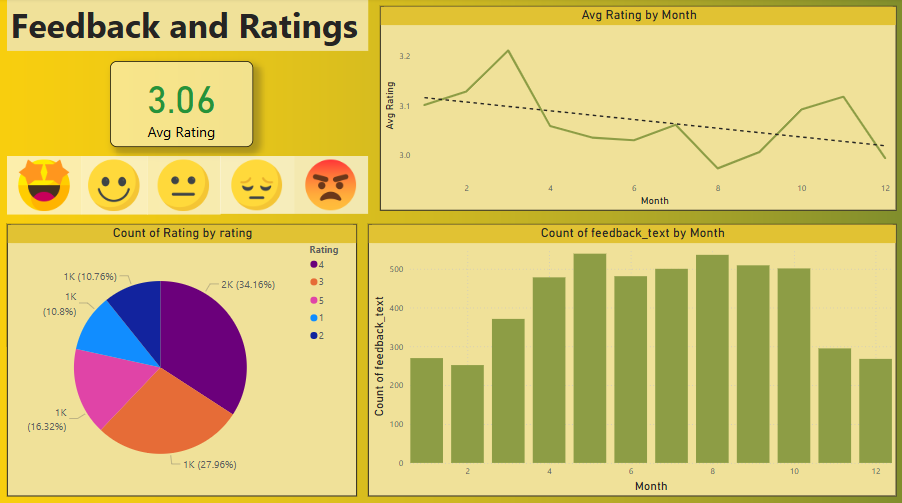

Layout of this report page (visuals, bound fields, positions):
{"tool":"powerbi","page":{"name":"Feedback & Rating","canvas":[1280,720],"ordinal":3},"visuals":[{"type":"pieChart","fields":{"Category":["customer_feedback.rating"],"Y":["Measure Table.Count of Rating"]},"box":[9.7,320.8,495.8,385.6],"z":0},{"type":"lineChart","fields":{"Y":["Measure Table.Avg Rating"],"Category":["customer_feedback.Month"]},"box":[537.9,11.3,732.4,290],"z":1000},{"type":"columnChart","fields":{"Category":["customer_feedback.Month"],"Y":["Measure Table.Count of feedback_text"]},"box":[521.7,320.8,748.6,385.6],"z":2000},{"type":"card","fields":{"Values":["Measure Table.Avg Rating"]},"box":[155.5,89.1,202.5,121.5],"z":3000},{"type":"textbox","box":[9.7,0,512,74.5],"z":4000},{"type":"image","box":[9.7,223.6,105.3,82.6],"z":5000},{"type":"image","box":[311.8,223.9,104.9,82.2],"z":6000},{"type":"image","box":[209,223.6,103.7,82.6],"z":7000},{"type":"image","box":[115,223.6,94,82.6],"z":8000},{"type":"image","box":[416.7,223.9,104.9,82.2],"z":9000}]}

Visuals, with their boxes in screenshot pixels (x1, y1, x2, y2), scaled from the page's 1280x720 canvas onto the 902x503 screenshot:
pieChart - customer_feedback.rating x Measure Table.Count of Rating: {"x1": 7, "y1": 224, "x2": 356, "y2": 493}
lineChart - Measure Table.Avg Rating x customer_feedback.Month: {"x1": 379, "y1": 8, "x2": 895, "y2": 210}
columnChart - customer_feedback.Month x Measure Table.Count of feedback_text: {"x1": 368, "y1": 224, "x2": 895, "y2": 493}
card - Measure Table.Avg Rating: {"x1": 110, "y1": 62, "x2": 252, "y2": 147}
textbox: {"x1": 7, "y1": 0, "x2": 368, "y2": 52}
image: {"x1": 7, "y1": 156, "x2": 81, "y2": 214}
image: {"x1": 220, "y1": 156, "x2": 294, "y2": 214}
image: {"x1": 147, "y1": 156, "x2": 220, "y2": 214}
image: {"x1": 81, "y1": 156, "x2": 147, "y2": 214}
image: {"x1": 294, "y1": 156, "x2": 368, "y2": 214}
